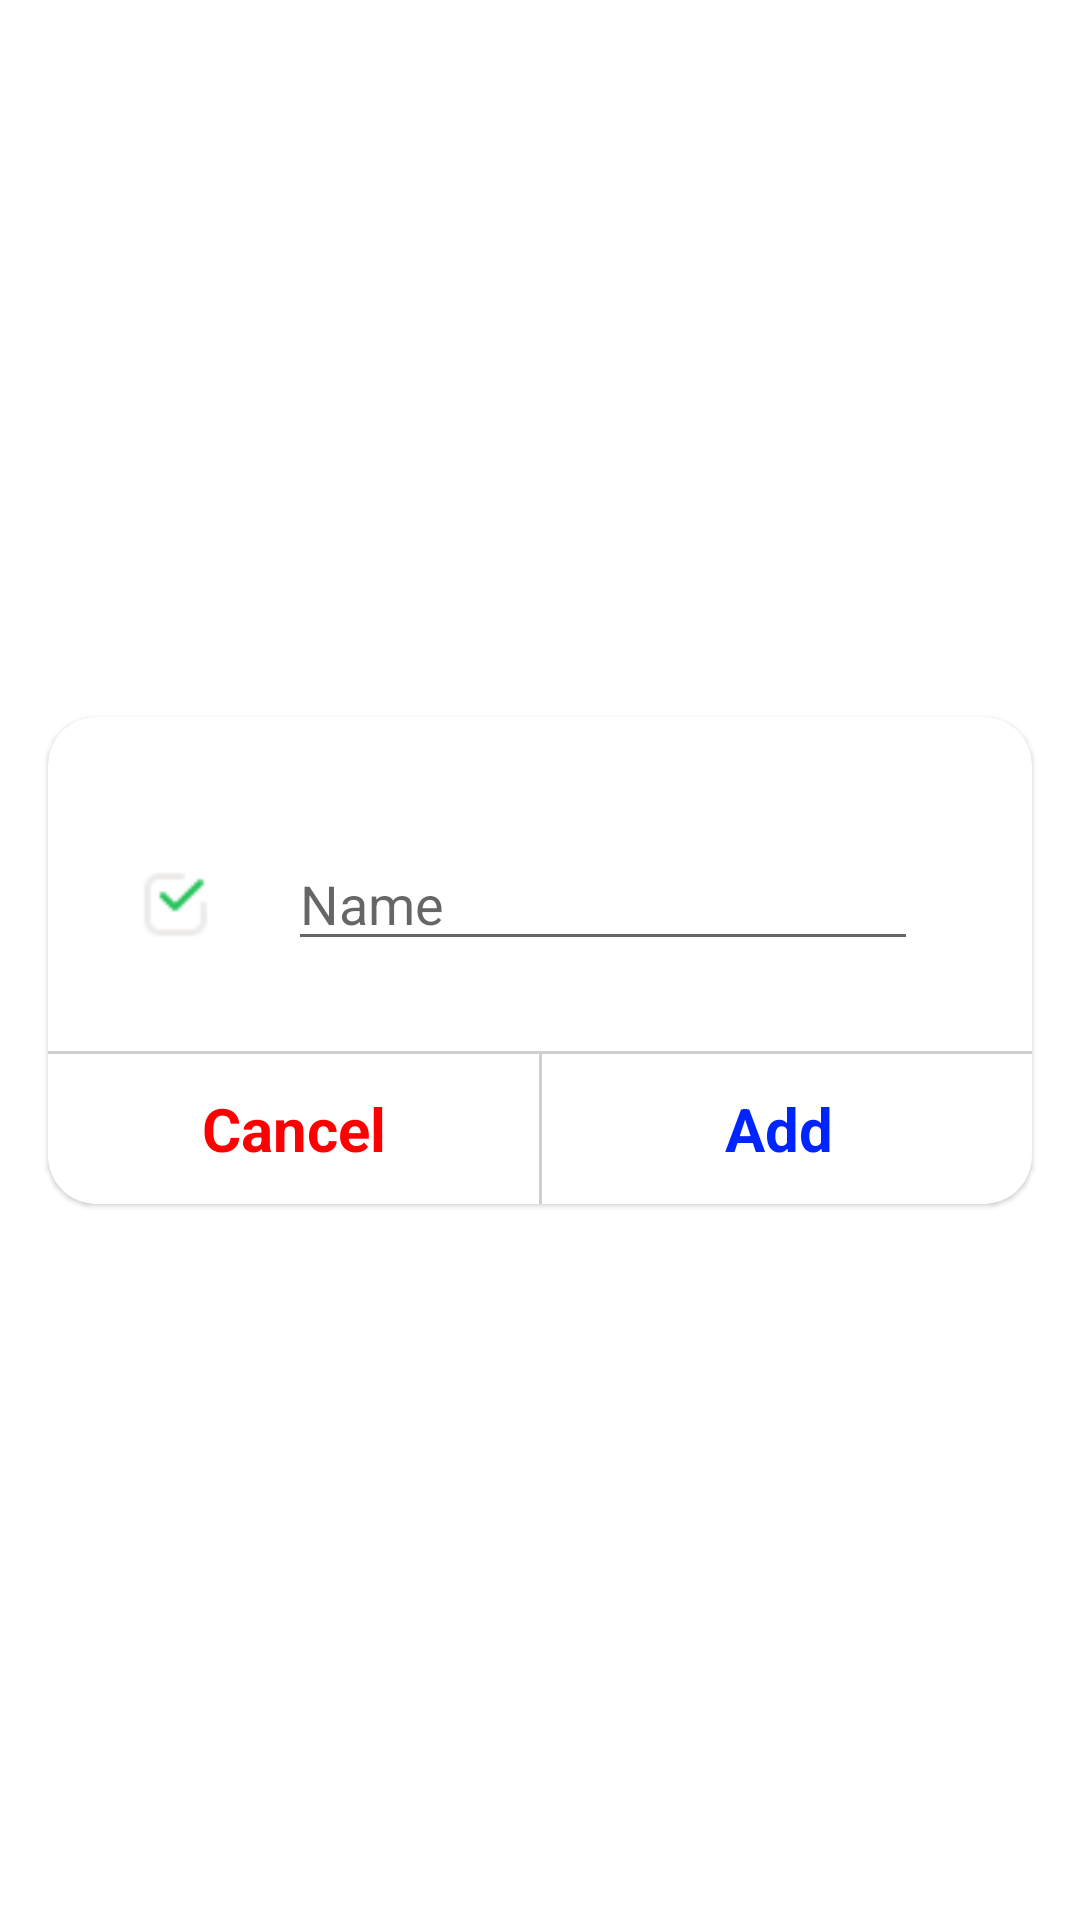

Icon bounding boxes for this 1080 × 1920 phone screenshot, format (x1, y1, x2, y2):
checkbox: (159, 878, 205, 912)
